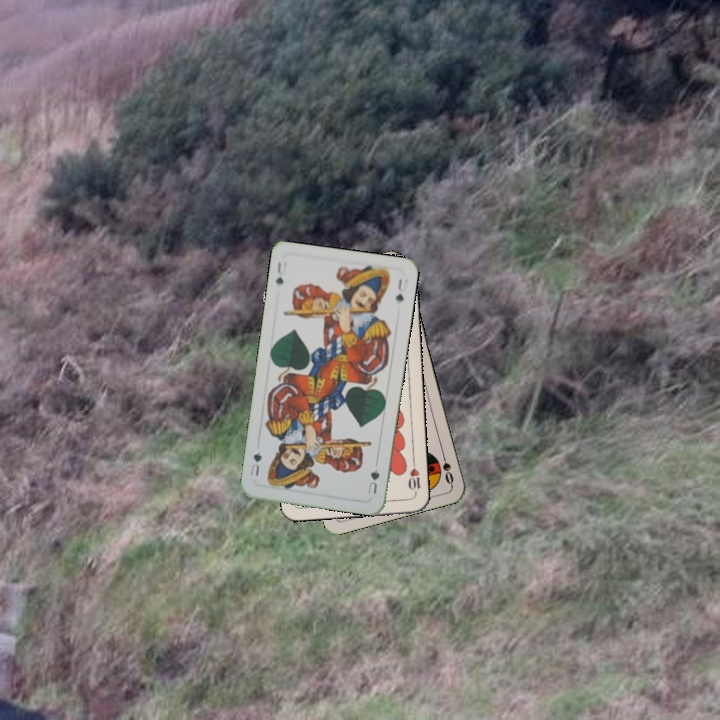GU: (364, 465, 382, 496), (271, 257, 289, 287)
H10: (404, 457, 423, 498)
SO: (437, 447, 456, 487)
